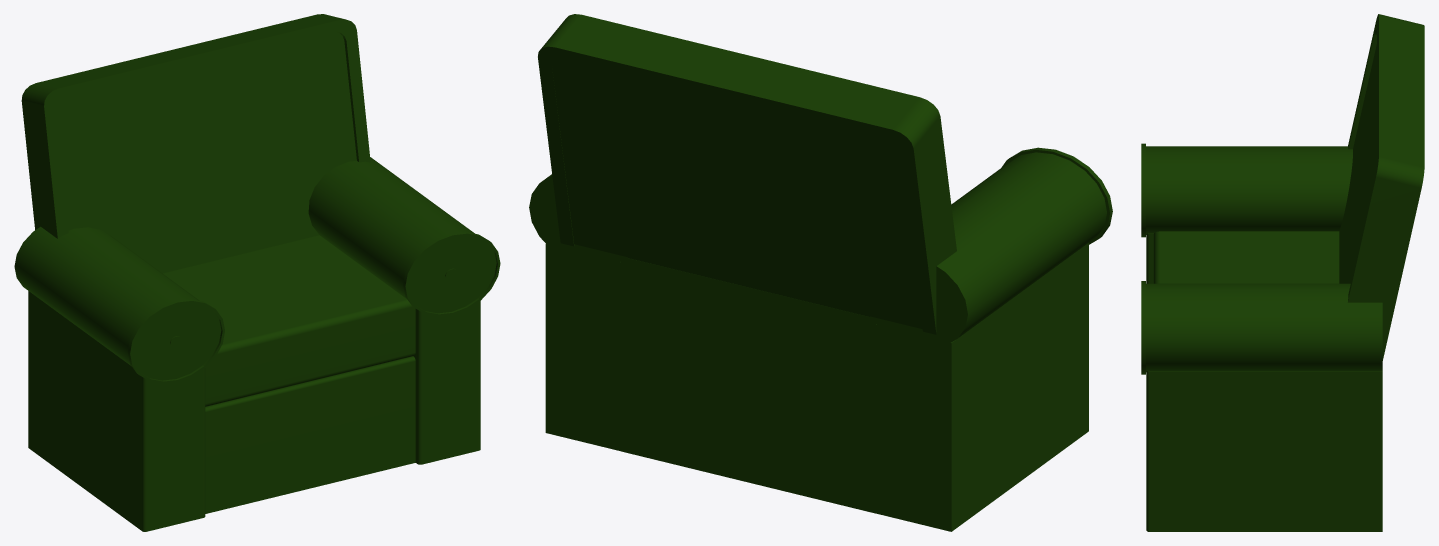
File: sillon.obj
3 views of the same model, side by side, from view 1: azimuth 30°, elevation 25°; view 2: azimuth 150°, elevation 25°; view 3: azimuth 270°, elevation 25° (orthographic). The views are drawn at different scales.
Parts seen in each view (by area): view 1: pasted__polySurface11 group; view 2: pasted__polySurface11 group; view 3: pasted__polySurface11 group.
Boxes of the visible parts, left/top/right/bottom form: pasted__polySurface11 group: left=14, top=14, right=500, bottom=531; pasted__polySurface11 group: left=529, top=14, right=1112, bottom=531; pasted__polySurface11 group: left=1141, top=14, right=1424, bottom=531.
Bounding box in the file's own units: 2.22 × 2.03 × 1.44.
Materials: 2 (2 with a texture image).
